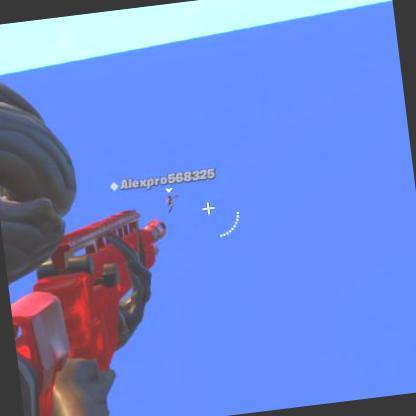person: (165, 192, 177, 212)
